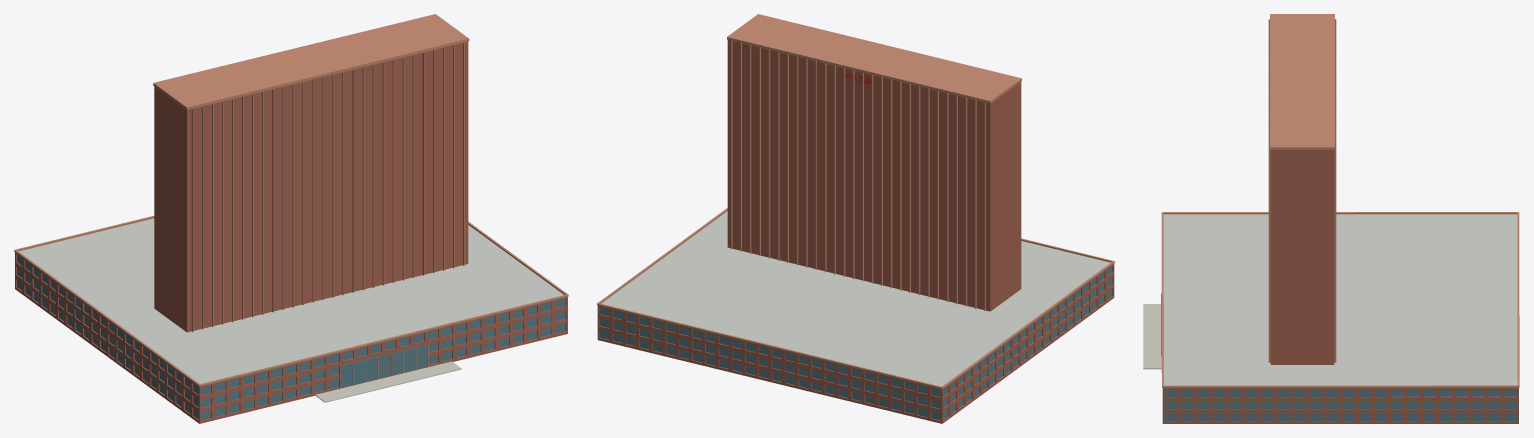
File: library.far.glb
3 views of the same model, side by side, from view 1: azimuth 30°, elevation 25°; view 2: azimuth 150°, elevation 25°; view 3: azimuth 270°, elevation 25° (orthographic). The views are drawn at different scales.
Parts seen in each view (by area): view 1: wall, roof, trim, glass, paving; view 2: wall, roof, trim, glass; view 3: roof, wall, trim, glass, paving.
Part boxes in pixels (x1=…): wall: x1=15, y1=41, x2=567, y2=423; roof: x1=19, y1=218, x2=563, y2=383; trim: x1=14, y1=14, x2=568, y2=388; glass: x1=17, y1=255, x2=565, y2=420; paving: x1=315, y1=361, x2=461, y2=402; wall: x1=597, y1=40, x2=1114, y2=423; roof: x1=601, y1=211, x2=1110, y2=386; trim: x1=597, y1=14, x2=1114, y2=389; glass: x1=600, y1=266, x2=1112, y2=420; roof: x1=1163, y1=214, x2=1517, y2=385; wall: x1=1162, y1=150, x2=1518, y2=423; trim: x1=1161, y1=14, x2=1519, y2=388; glass: x1=1164, y1=389, x2=1516, y2=420; paving: x1=1143, y1=304, x2=1161, y2=369.
Bounding box in the file's own units: 97.4 × 66.92 × 88.71.
